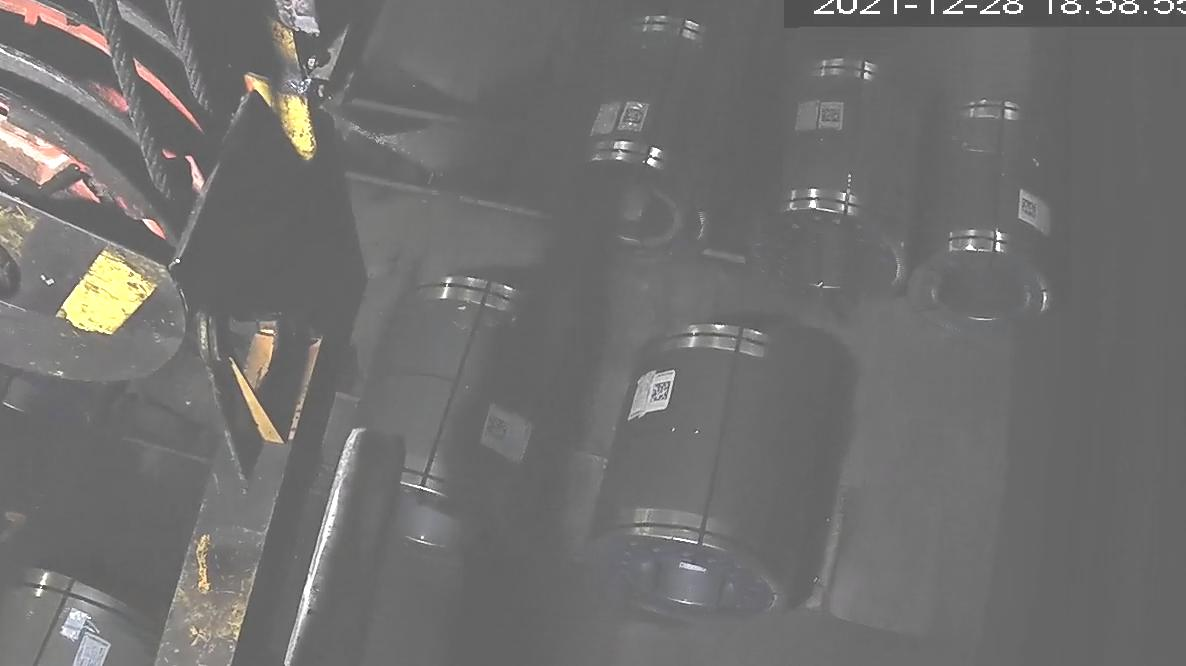data matrix: (620, 104, 647, 130), (648, 380, 675, 405), (1018, 197, 1041, 224), (819, 105, 845, 128)
